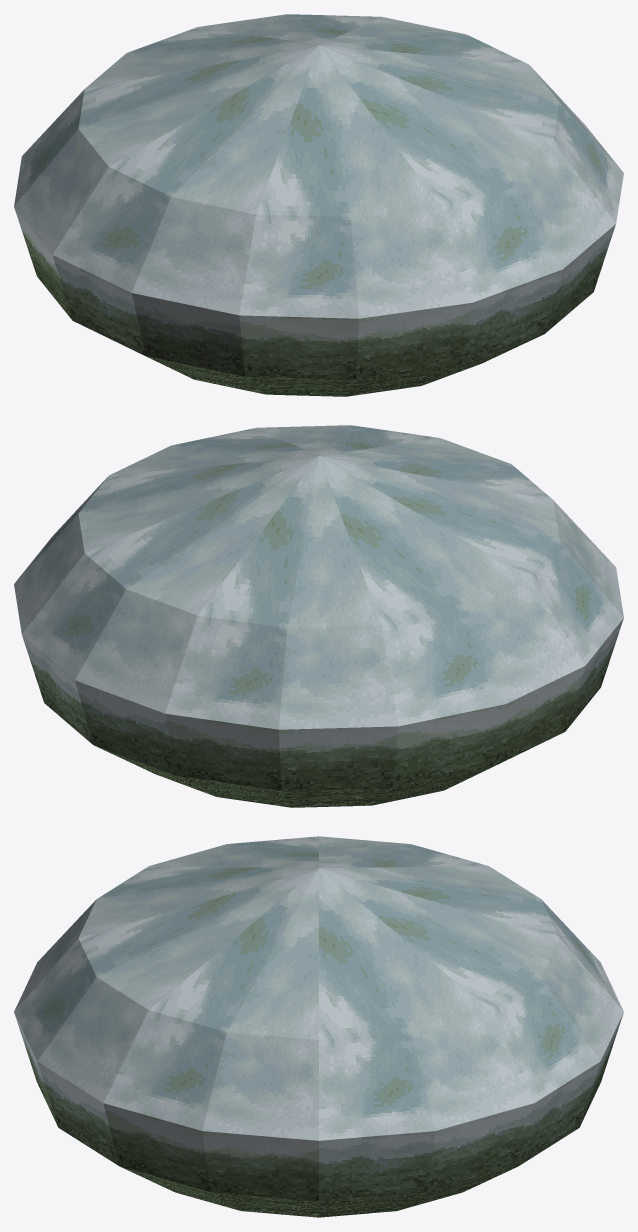
3 renders of one model, top to bottom at view 1: azimuth 30°, elevation 25°; view 2: azimuth 150°, elevation 25°; view 3: azimuth 270°, elevation 25°, orthographic.
Visible parts, largest first — view 1: mesh00; view 2: mesh00; view 3: mesh00.
Part boxes in pixels (x1,y1,x2,y2): mesh00: (14, 14, 623, 396); mesh00: (14, 425, 623, 807); mesh00: (14, 836, 623, 1217).
Size of the model in its own units: 61154 by 32809 by 61153.
